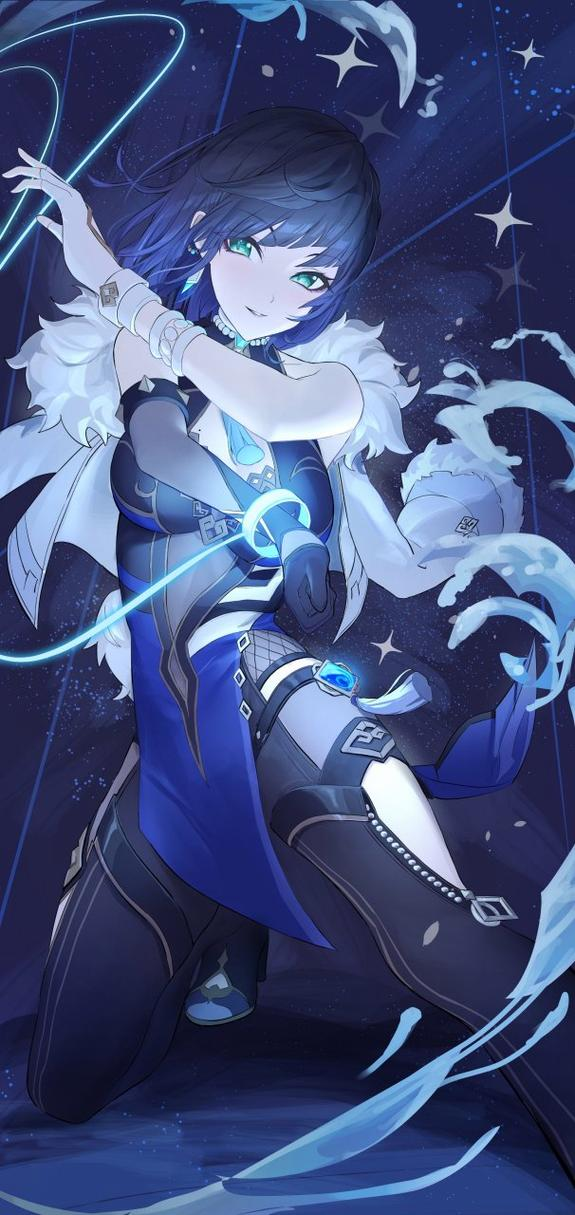夜兰: (5, 112, 575, 1189)
